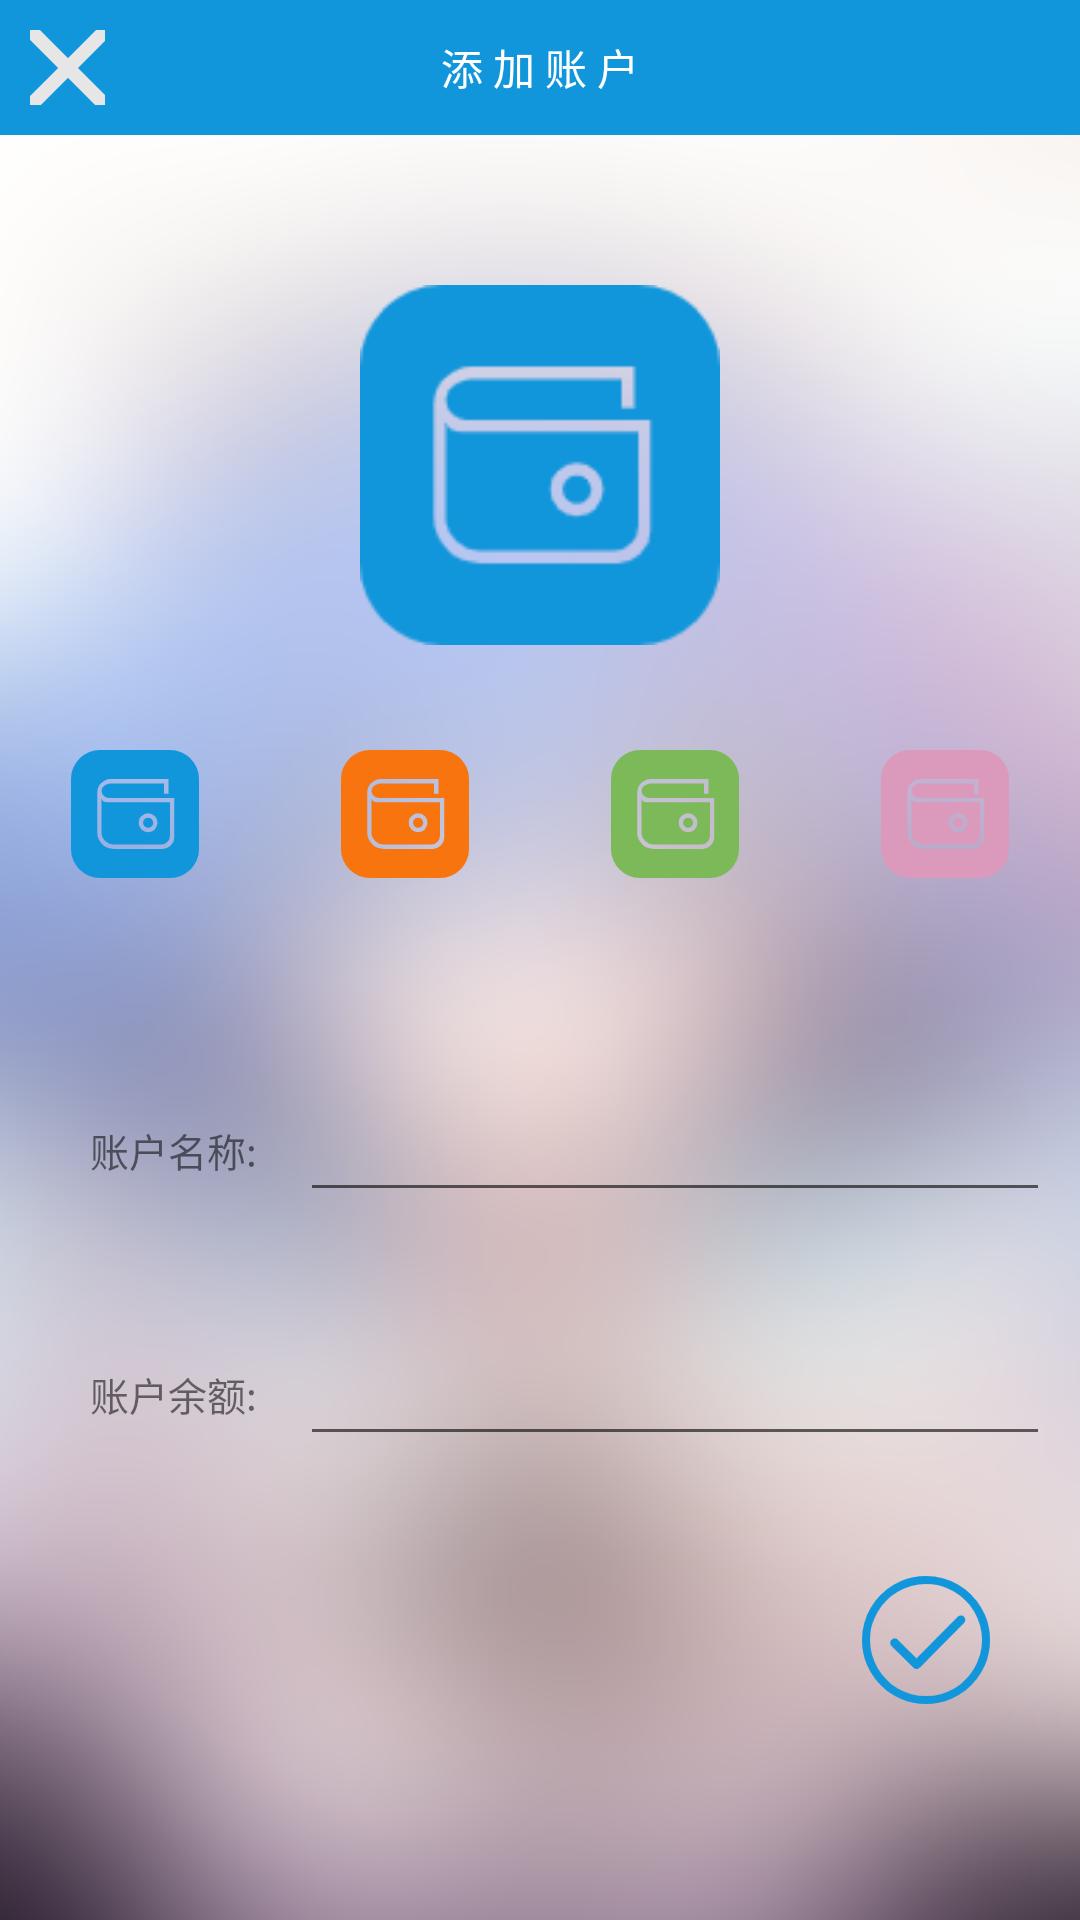

Screen size 1080 × 1920. Icon name, then its center in pixels as (x=x, y=y):
account: (x=540, y=465), (x=135, y=814), (x=405, y=814), (x=675, y=814), (x=945, y=814)
close: (x=67, y=67)
